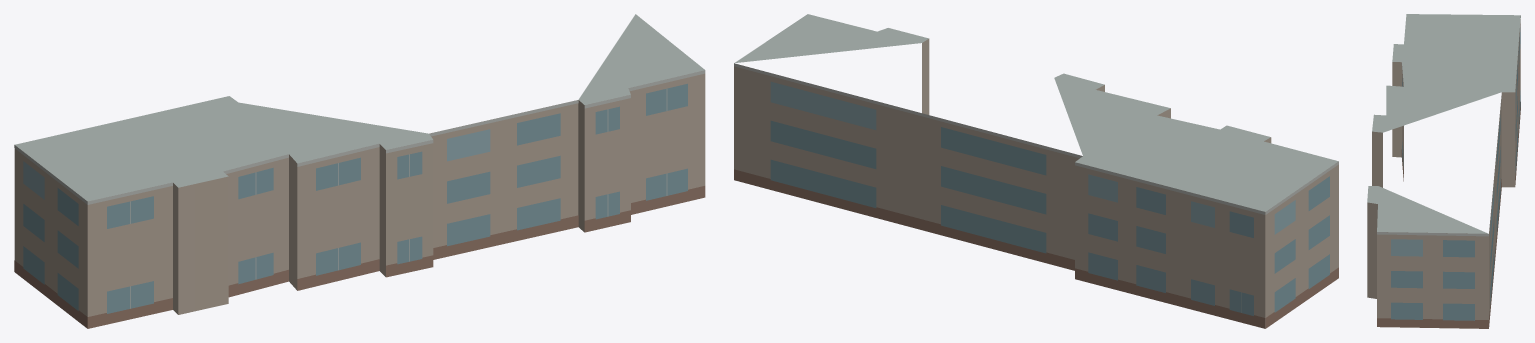
Rendered from survey-upis-32923953.glb.
The picture shows the model from 3 angles, left to right: view 1: azimuth 30°, elevation 25°; view 2: azimuth 150°, elevation 25°; view 3: azimuth 270°, elevation 25°; orthographic projection. The views are drawn at different scales.
Visible parts, largest first — view 1: survey-upis-32923953.tmp; view 2: survey-upis-32923953.tmp; view 3: survey-upis-32923953.tmp.
Part boxes in pixels (left/top/right/bottom): survey-upis-32923953.tmp: left=14, top=14, right=705, bottom=328; survey-upis-32923953.tmp: left=734, top=14, right=1338, bottom=328; survey-upis-32923953.tmp: left=1367, top=14, right=1520, bottom=328.
Size of the model in its own units: 45.36 by 9.15 by 13.4.
